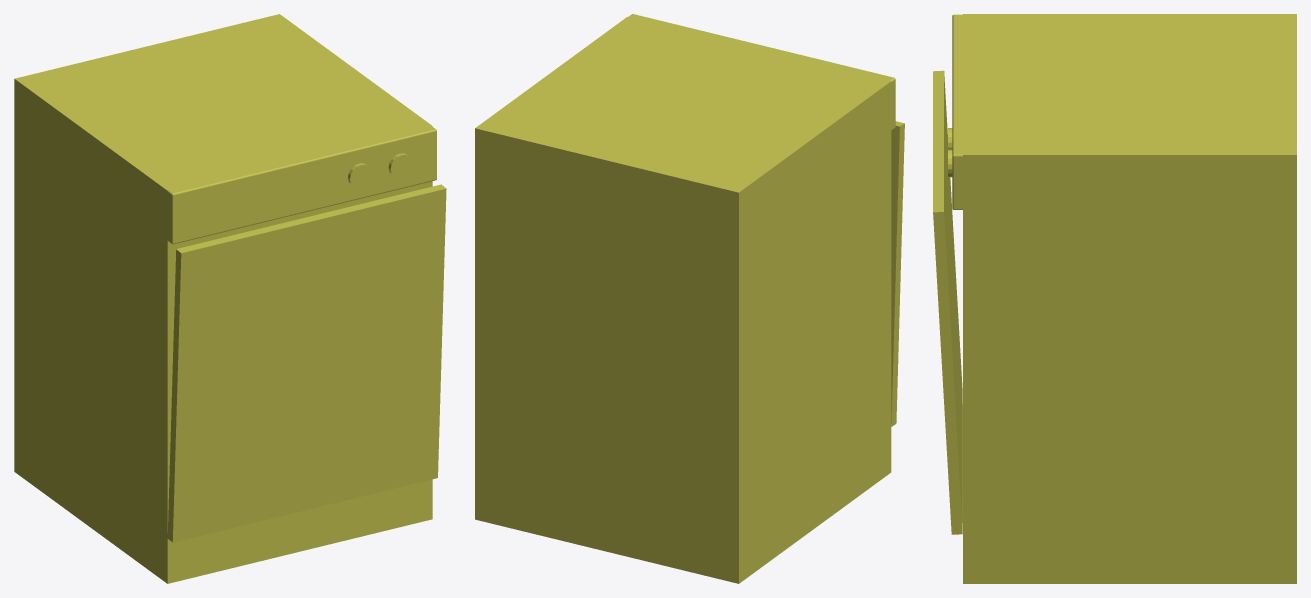
File: eteks-dishwasher.glb
3 renders of one model, left to right at view 1: azimuth 30°, elevation 25°; view 2: azimuth 150°, elevation 25°; view 3: azimuth 270°, elevation 25°, orthographic. The views are drawn at different scales.
Parts seen in each view (by area): view 1: Corps, sweethome3d_opening_on_hinge_1_Porte, PanneauCommande; view 2: Corps, sweethome3d_opening_on_hinge_1_Porte, PanneauCommande; view 3: Corps, sweethome3d_opening_on_hinge_1_Porte, PanneauCommande.
Boxes of the visible parts, bbox=[...] form: Corps: bbox=[14, 14, 432, 583]; sweethome3d_opening_on_hinge_1_Porte: bbox=[167, 184, 446, 542]; PanneauCommande: bbox=[167, 126, 436, 244]; Corps: bbox=[475, 17, 891, 583]; sweethome3d_opening_on_hinge_1_Porte: bbox=[891, 121, 904, 426]; PanneauCommande: bbox=[628, 14, 895, 130]; Corps: bbox=[963, 14, 1296, 583]; sweethome3d_opening_on_hinge_1_Porte: bbox=[933, 70, 962, 534]; PanneauCommande: bbox=[952, 14, 963, 209].
Bounding box in the file's own units: 60 × 85 × 65.37.
